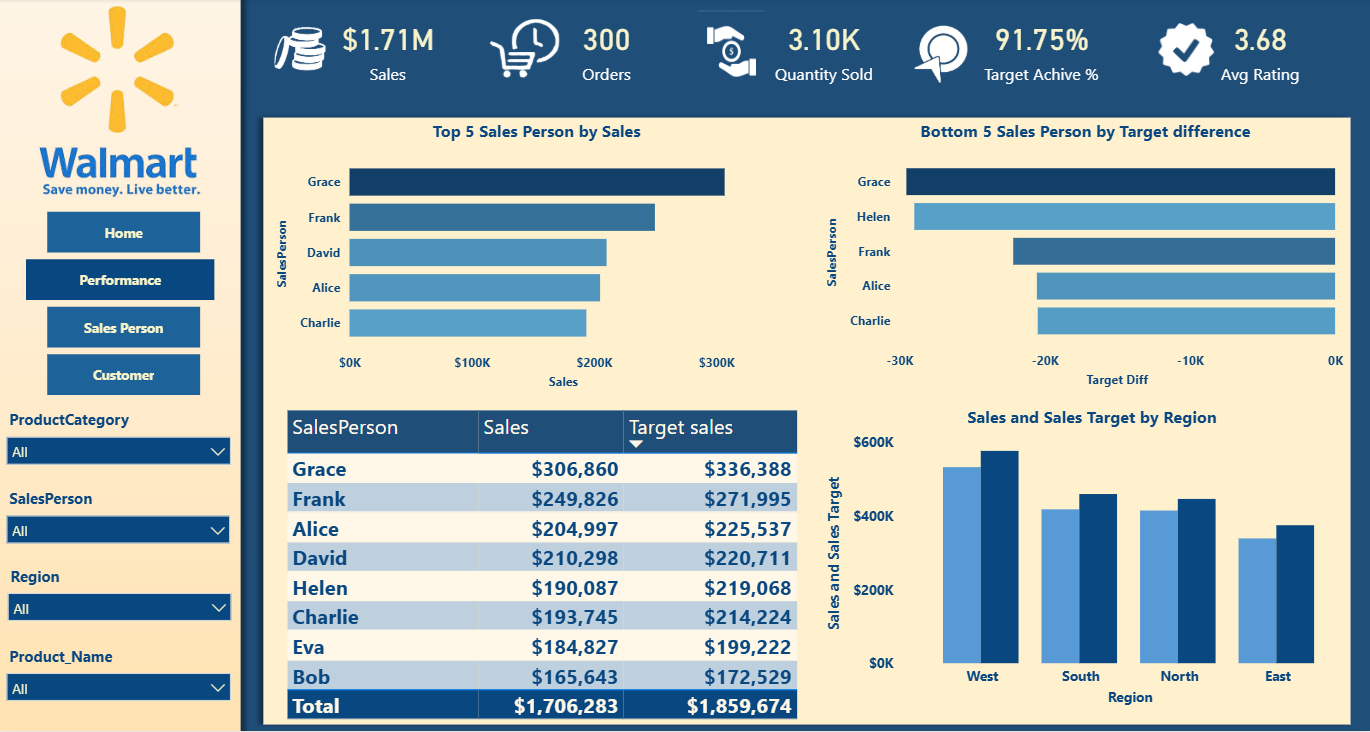

This screenshot's page, from the dashboard's own definition file:
{"tool":"powerbi","page":{"name":"Performance","canvas":[1350,720],"ordinal":1},"visuals":[{"type":"barChart","title":"Bottom 5 Sales Person by  Target difference","fields":{"Category":["SalesPersonTable.SalesPerson"],"Y":["Sum(SalesTable.Target Diff)"]},"box":[810.7,119.4,516.4,267.8],"z":0},{"type":"tableEx","fields":{"Values":["SalesPersonTable.SalesPerson","Sum(SalesTable.Revenue)","Sum(SalesTable.Sales_Target)"]},"box":[279.9,399.3,530.8,318.5],"z":1000},{"type":"barChart","title":"Top 5 Sales Person by Sales","fields":{"Category":["SalesPersonTable.SalesPerson"],"Y":["Sum(SalesTable.Revenue)"]},"box":[271.4,119.4,518.8,270.2],"z":2000},{"type":"clusteredColumnChart","fields":{"Y":["Sum(SalesTable.Revenue)","Sum(SalesTable.Sales_Target)"],"Category":["SalesTable.Region"]},"box":[810.6,400,529.7,299.6],"z":3000},{"type":"actionButton","box":[50,210,150,40],"z":8000},{"type":"actionButton","box":[30,256.7,185,40],"z":9000},{"type":"actionButton","box":[50,303.3,150,40],"z":10000},{"type":"actionButton","box":[50,350,150,40],"z":11000},{"type":"card","fields":{"Values":["Sum(SalesTable.Revenue)"]},"box":[284.7,0,200.2,99.5],"z":12000},{"type":"card","fields":{"Values":["Count(SalesTable.Sale_ID)"]},"box":[498.7,0,200,100],"z":13000},{"type":"card","fields":{"Values":["Sum(SalesTable.Units_Sold)"]},"box":[712.4,0,200,100],"z":14000},{"type":"card","fields":{"Values":["SalesTable.Target Achive %"]},"box":[926.2,0,200,100],"z":15000},{"type":"card","fields":{"Values":["Avg(SalesTable.Feedback_Score)"]},"box":[1140,0,200.2,99.5],"z":16000},{"type":"image","box":[260.6,7.2,76,84.5],"z":17000},{"type":"image","box":[485,16.9,68.8,63.9],"z":18000},{"type":"image","box":[686.5,12.1,70,79.6],"z":19000},{"type":"image","box":[889.1,18.1,76,73.6],"z":20000},{"type":"image","box":[1140.1,24.1,54.3,51.9],"z":21000},{"type":"image","box":[1.2,0,240.1,209.9],"z":21001},{"type":"slicer","fields":{"Values":["CategoryTable.ProductCategory"]},"box":[0,399.1,240,69.6],"z":21002},{"type":"slicer","fields":{"Values":["SalesPersonTable.SalesPerson"]},"box":[0,475.7,240,69.6],"z":21003},{"type":"slicer","fields":{"Values":["SalesTable.Region"]},"box":[1.2,552.2,240,70.9],"z":21004},{"type":"slicer","fields":{"Values":["SalesTable.Product_Name"]},"box":[0,630,240,70],"z":21005}]}

Visuals, with their boxes in screenshot pixels (x1, y1, x2, y2), scaled from the page's 1350x720 canvas onto the 1370x732 screenshot:
"Bottom 5 Sales Person by  Target difference" barChart: [823,121,1347,394]
tableEx - SalesPersonTable.SalesPerson x Sum(SalesTable.Revenue): [284,406,823,730]
"Top 5 Sales Person by Sales" barChart: [275,121,802,396]
clusteredColumnChart - Sum(SalesTable.Revenue) x Sum(SalesTable.Sales_Target): [823,407,1360,711]
actionButton: [51,214,203,254]
actionButton: [30,261,218,302]
actionButton: [51,308,203,349]
actionButton: [51,356,203,396]
card - Sum(SalesTable.Revenue): [289,0,492,101]
card - Count(SalesTable.Sale_ID): [506,0,709,102]
card - Sum(SalesTable.Units_Sold): [723,0,926,102]
card - SalesTable.Target Achive %: [940,0,1143,102]
card - Avg(SalesTable.Feedback_Score): [1157,0,1360,101]
image: [264,7,342,93]
image: [492,17,562,82]
image: [697,12,768,93]
image: [902,18,979,93]
image: [1157,25,1212,77]
image: [1,0,245,213]
slicer - CategoryTable.ProductCategory: [0,406,244,477]
slicer - SalesPersonTable.SalesPerson: [0,484,244,554]
slicer - SalesTable.Region: [1,561,245,633]
slicer - SalesTable.Product_Name: [0,640,244,712]
